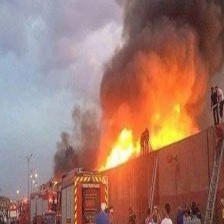fire: (100, 125, 133, 172), (152, 122, 185, 146)
smoke: (29, 1, 224, 135)
